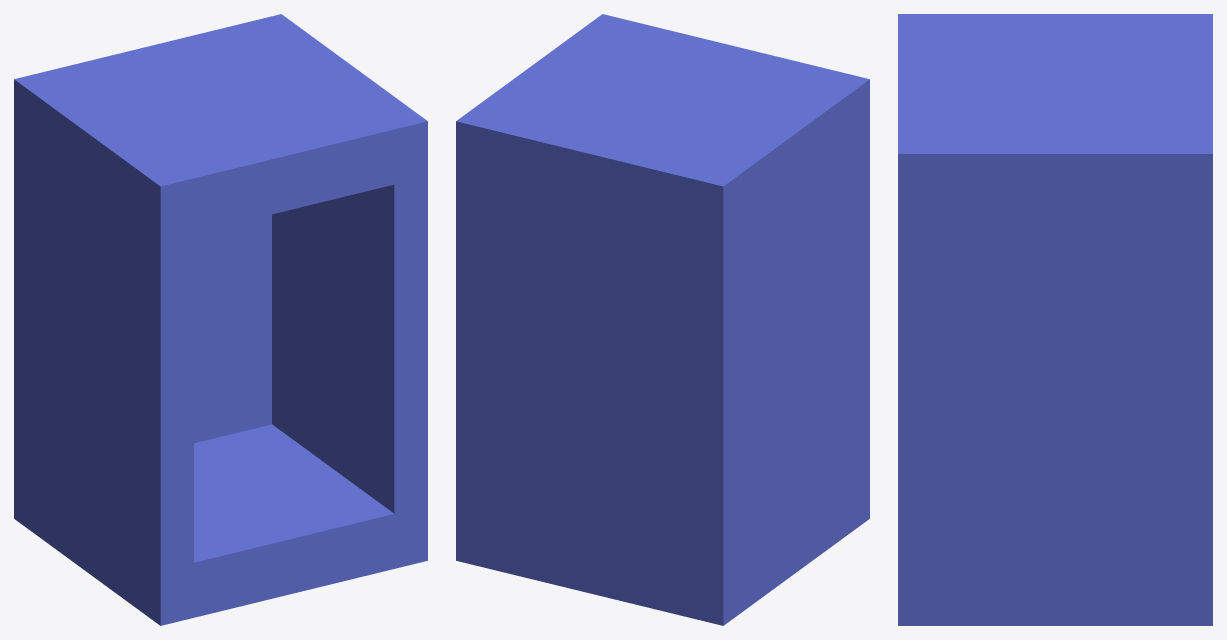
File: shelf.fbx
The picture shows the model from 3 angles, left to right: view 1: azimuth 30°, elevation 25°; view 2: azimuth 150°, elevation 25°; view 3: azimuth 270°, elevation 25°; orthographic projection. The views are drawn at different scales.
Visible parts, largest first — view 1: shelfmodel; view 2: shelfmodel; view 3: shelfmodel.
Boxes of the visible parts, x1,y1,x2,y2 form: shelfmodel: (14,14,427,625); shelfmodel: (456,14,869,625); shelfmodel: (898,14,1212,625).
Size of the model in its own units: 130 by 204 by 123.
